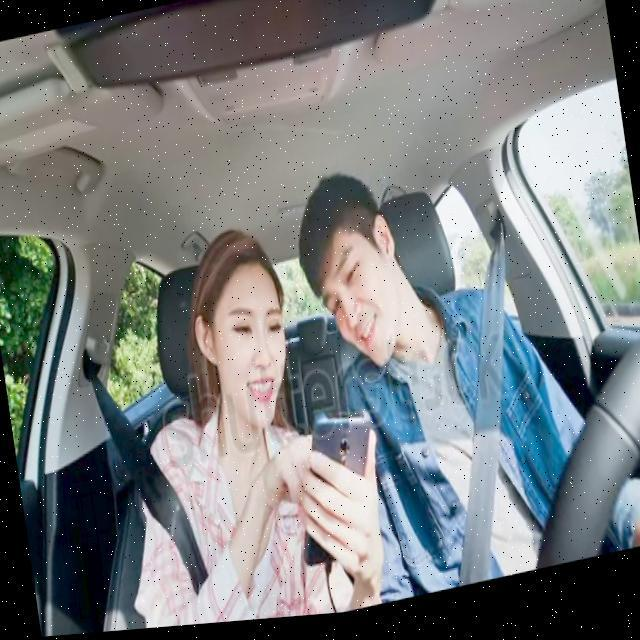PhoneCall: (284, 408, 391, 576)
